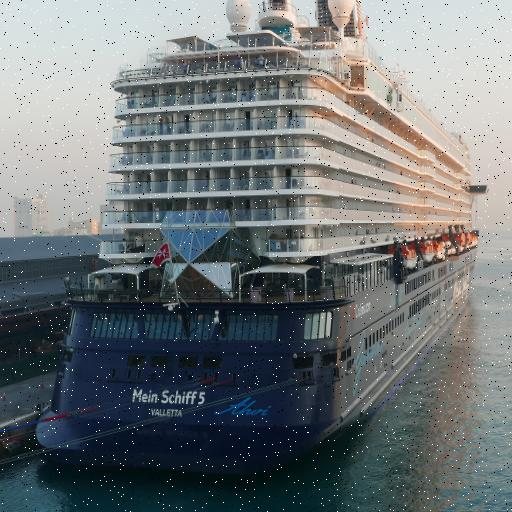cruises: (33, 1, 484, 487)
